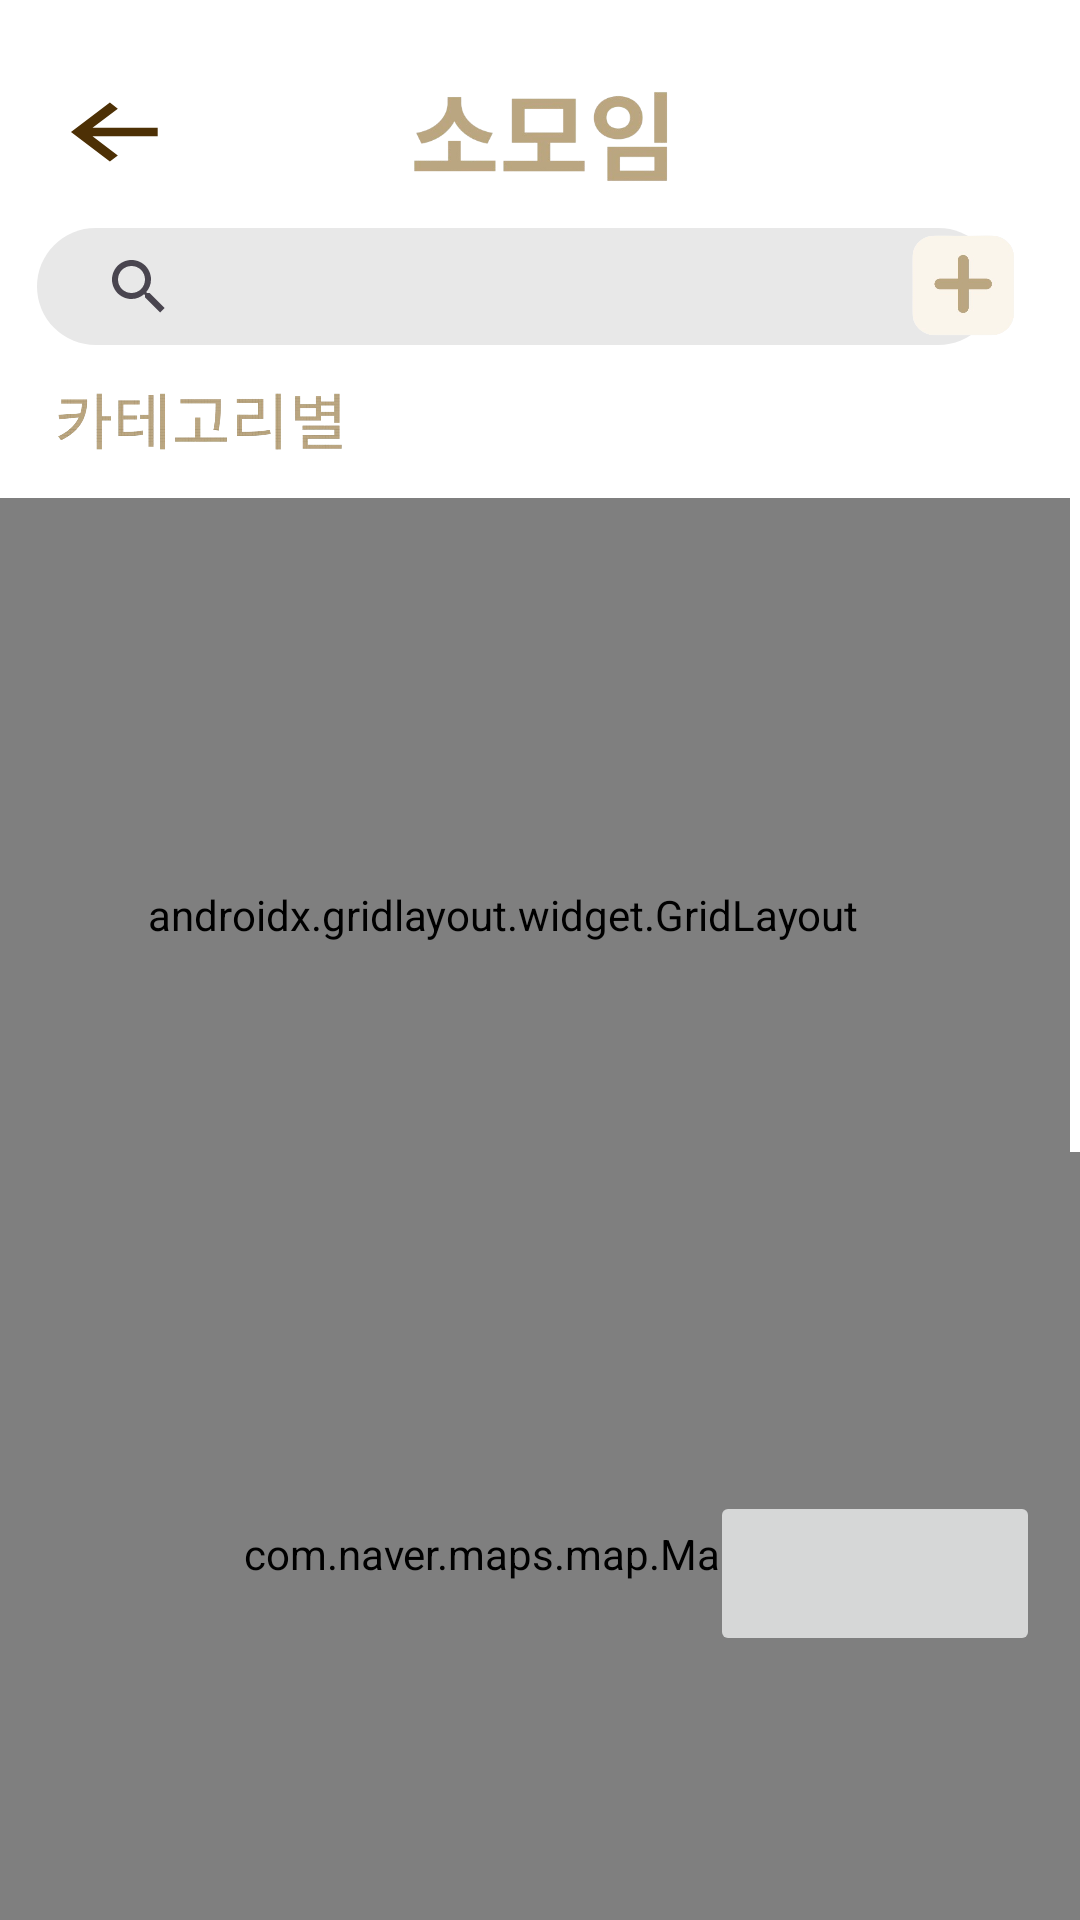

Screen size 1080*1920. Icon name, then its center in pixels as point (x, y):
meeting backbutton: point (114, 132)
meeting generatebutton: point (960, 285)
